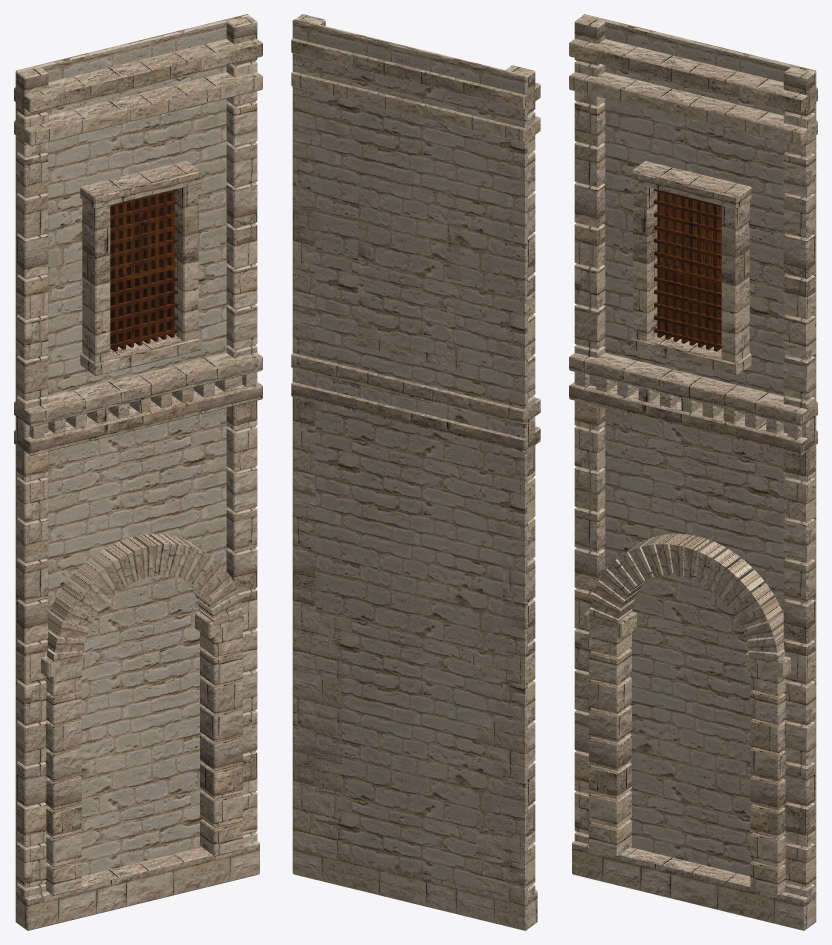
File: fountain-west-south.glb
3 renders of one model, left to right at view 1: azimuth 30°, elevation 25°; view 2: azimuth 150°, elevation 25°; view 3: azimuth 330°, elevation 25°, orthographic.
Parts seen in each view (by area): view 1: Cut stone civic wall; view 2: Cut stone civic wall; view 3: Cut stone civic wall.
Part boxes in pixels (<box>): Cut stone civic wall: <box>14,14,262,930</box>; Cut stone civic wall: <box>291,14,540,930</box>; Cut stone civic wall: <box>569,14,817,930</box>.
Bounding box in the file's own units: 2.72 × 9.5 × 0.37.
Materials: 3 (3 with a texture image).
